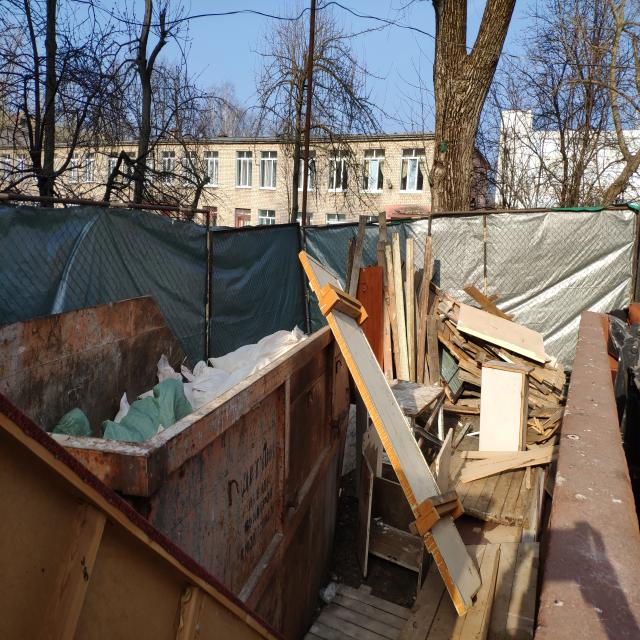entulho: (302, 256, 494, 596), (442, 448, 554, 640), (397, 529, 563, 640), (450, 364, 562, 484), (34, 375, 225, 444), (349, 453, 439, 566), (193, 320, 301, 408), (455, 302, 550, 370), (606, 305, 640, 435), (408, 234, 436, 385), (374, 217, 395, 395), (386, 239, 409, 384), (344, 215, 366, 297)
